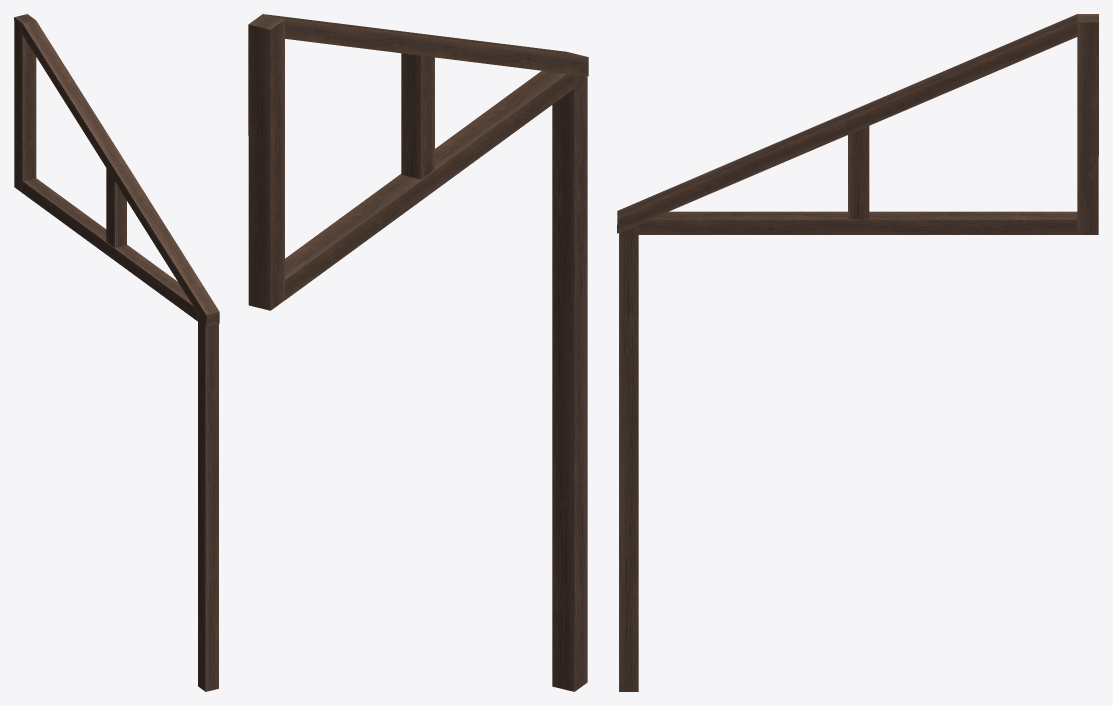
The model's file is yane_frame_2t_1f_3.fbx.
3 views of the same model, side by side, from view 1: azimuth 30°, elevation 25°; view 2: azimuth 150°, elevation 25°; view 3: azimuth 270°, elevation 25° (orthographic). The views are drawn at different scales.
Parts seen in each view (by area): view 1: yane_frame_2t_1f_3; view 2: yane_frame_2t_1f_3; view 3: yane_frame_2t_1f_3.
Boxes of the visible parts, left/top/right/bottom form: yane_frame_2t_1f_3: left=14, top=14, right=219, bottom=691; yane_frame_2t_1f_3: left=248, top=14, right=588, bottom=691; yane_frame_2t_1f_3: left=617, top=14, right=1098, bottom=691.
Size of the model in its own units: 18.5 by 708 by 461.
